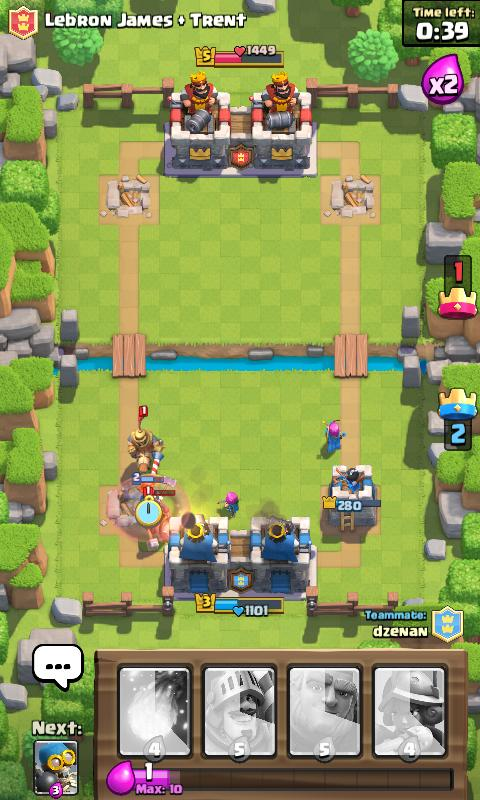ally_archer: (320, 417, 347, 453), (215, 490, 241, 519)
ally_valkyrie: (131, 472, 164, 500)
enemy_hog_rider: (139, 485, 176, 552)
enemy_prince: (126, 404, 164, 475)
